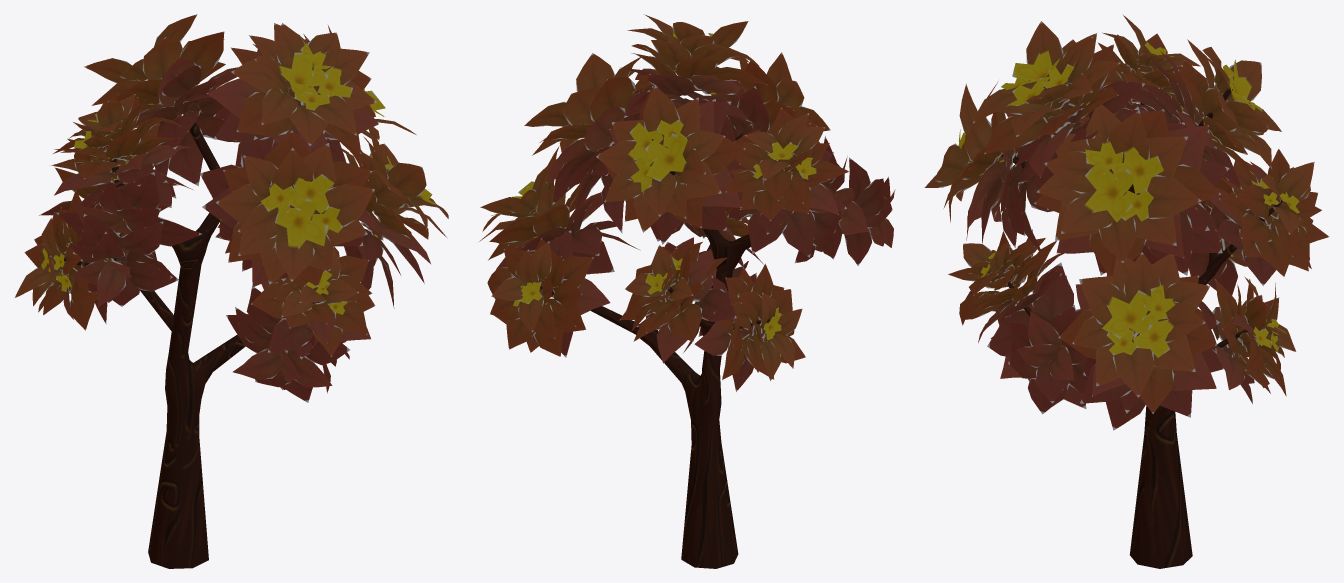
The model's file is Forest_Trees_Orange_2.glb.
3 renders of one model, left to right at view 1: azimuth 30°, elevation 25°; view 2: azimuth 150°, elevation 25°; view 3: azimuth 270°, elevation 25°, orthographic. The views are drawn at different scales.
Visible parts, largest first — view 1: Object_10; view 2: Object_10; view 3: Object_10.
Boxes of the visible parts, box(x1,y1,x2,y2) form: Object_10: box(15, 14, 448, 568); Object_10: box(479, 14, 895, 568); Object_10: box(924, 14, 1329, 568).
Bounding box in the file's own units: 94.92 × 119 × 79.46.
